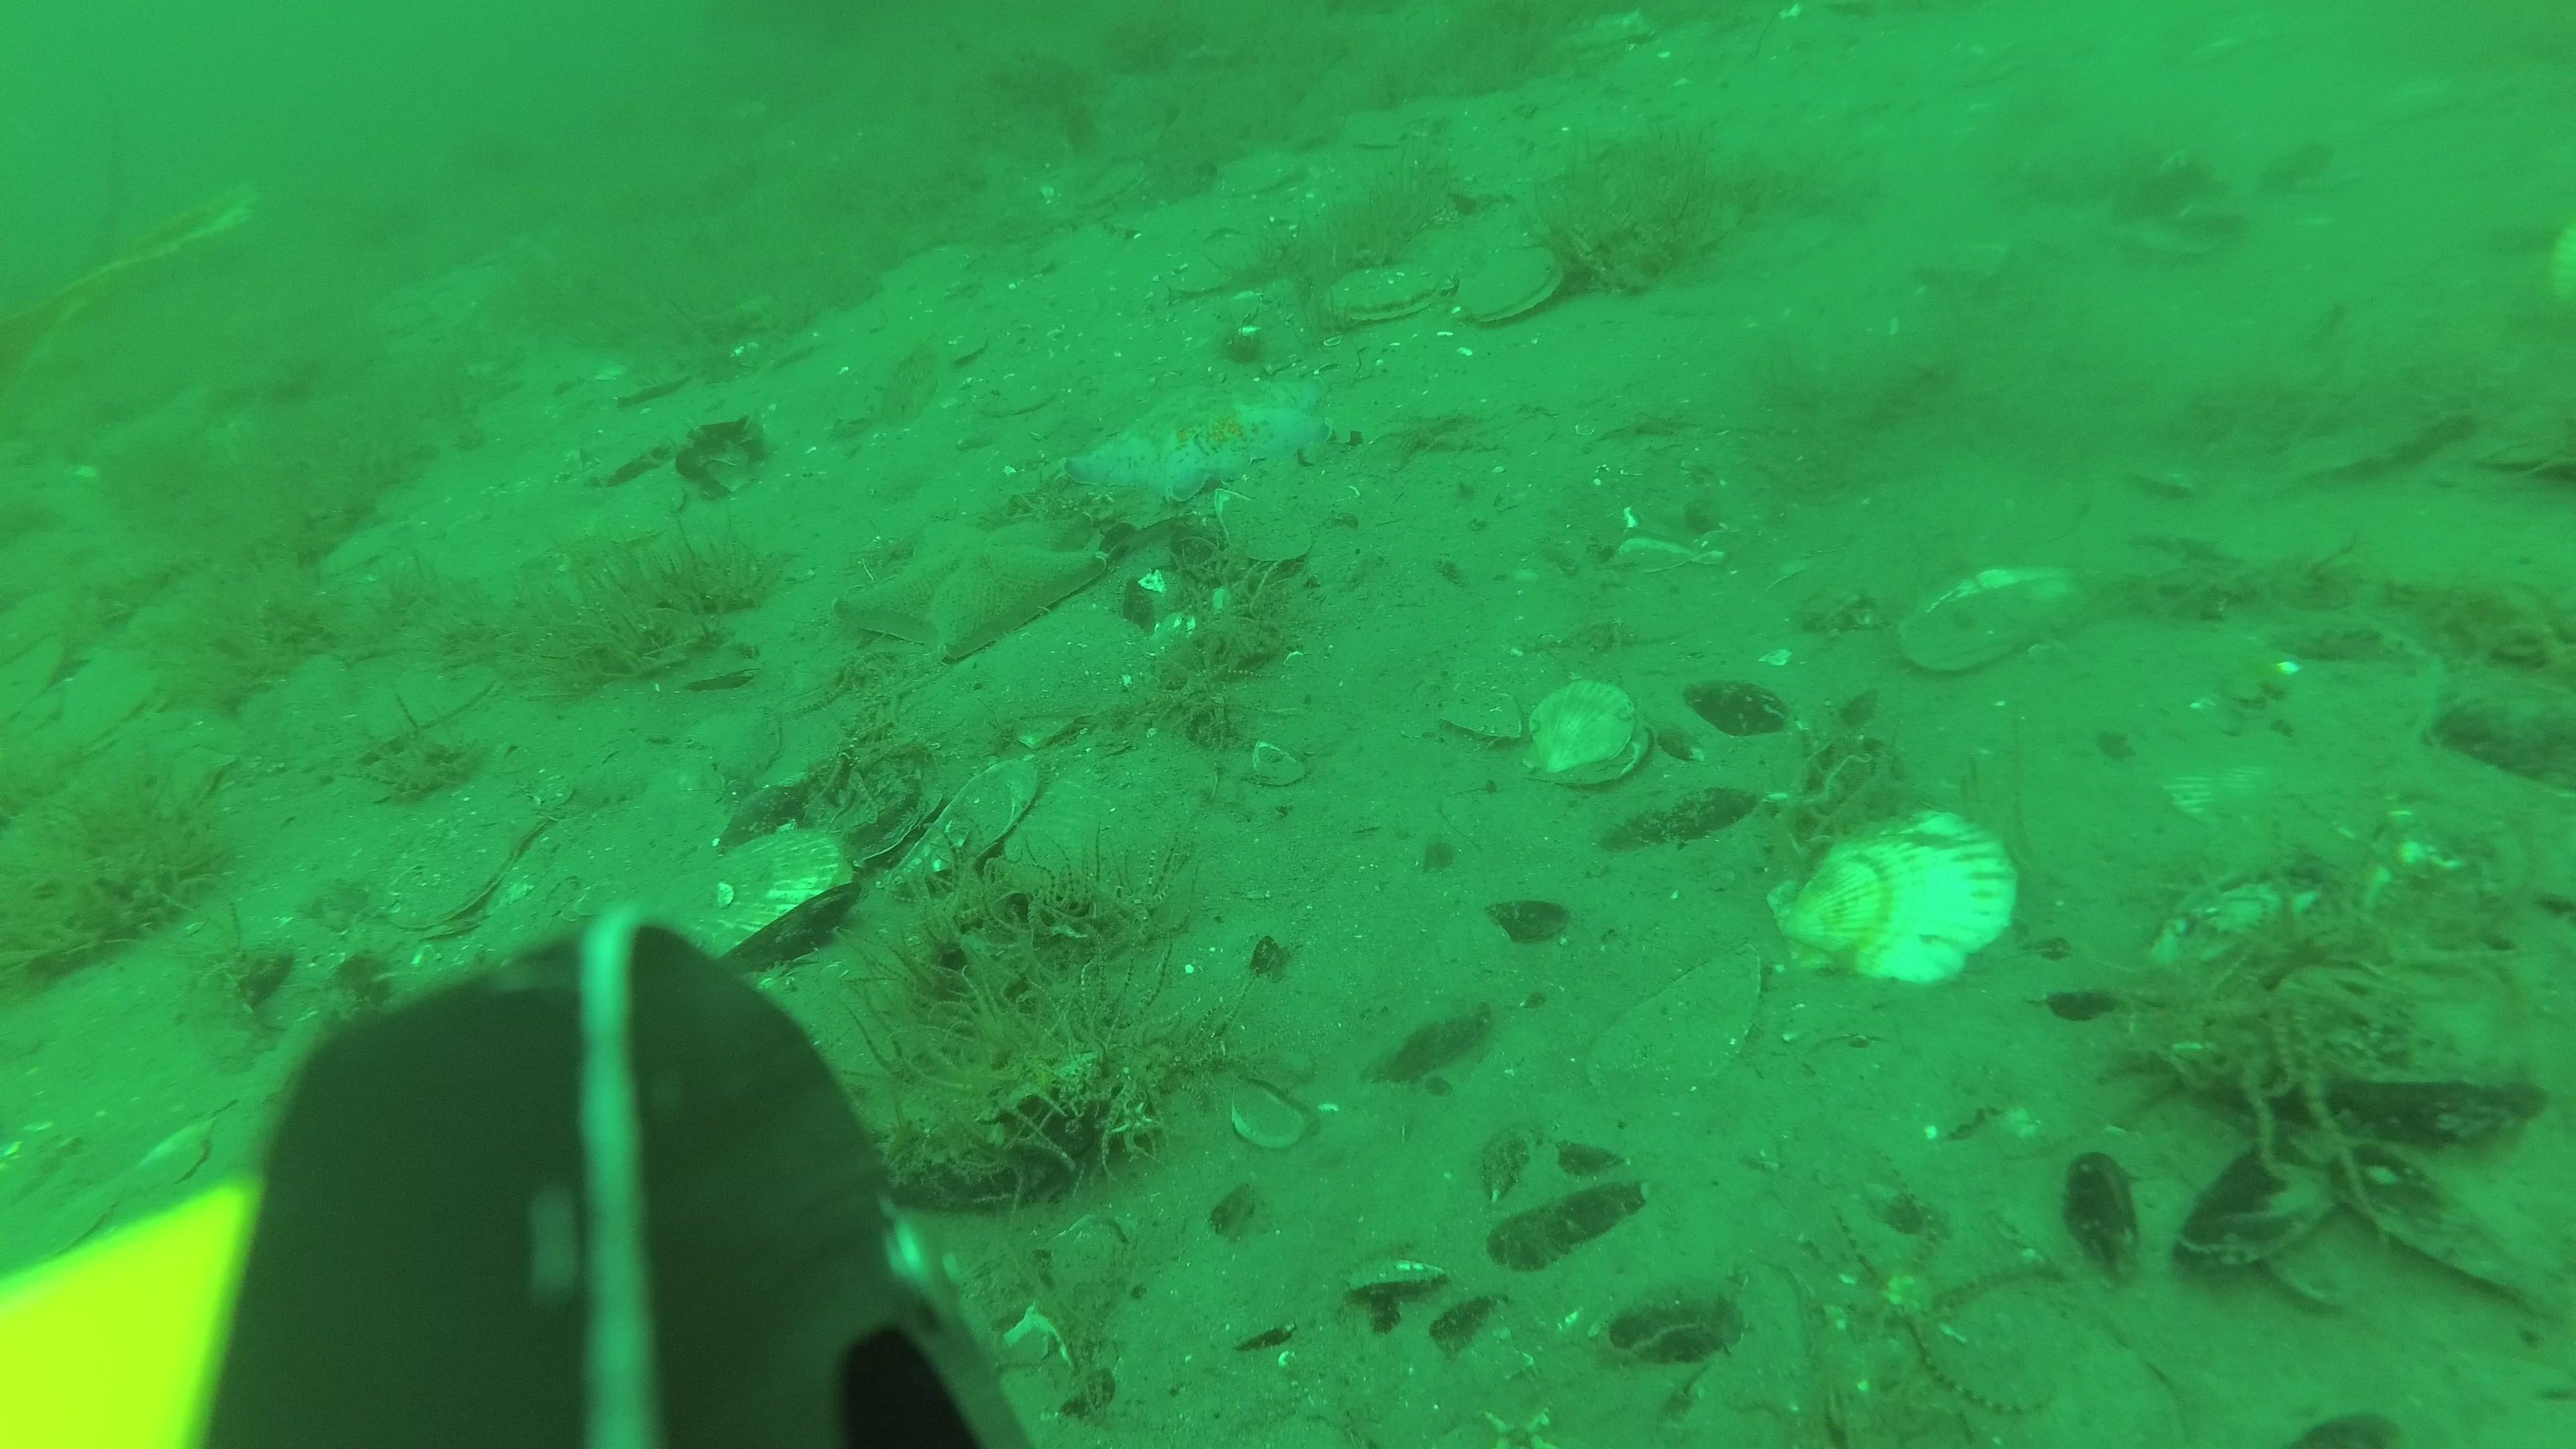scallop: (1755, 817, 2013, 987), (649, 832, 856, 971), (1890, 563, 2082, 674), (384, 809, 513, 927), (1530, 679, 1647, 789), (1467, 232, 1564, 333), (1327, 260, 1438, 322)
starfish: (1062, 363, 1332, 501), (837, 518, 1104, 655)
